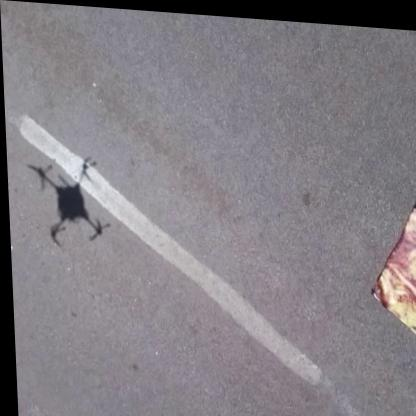fire-poster: (365, 187, 416, 343)
